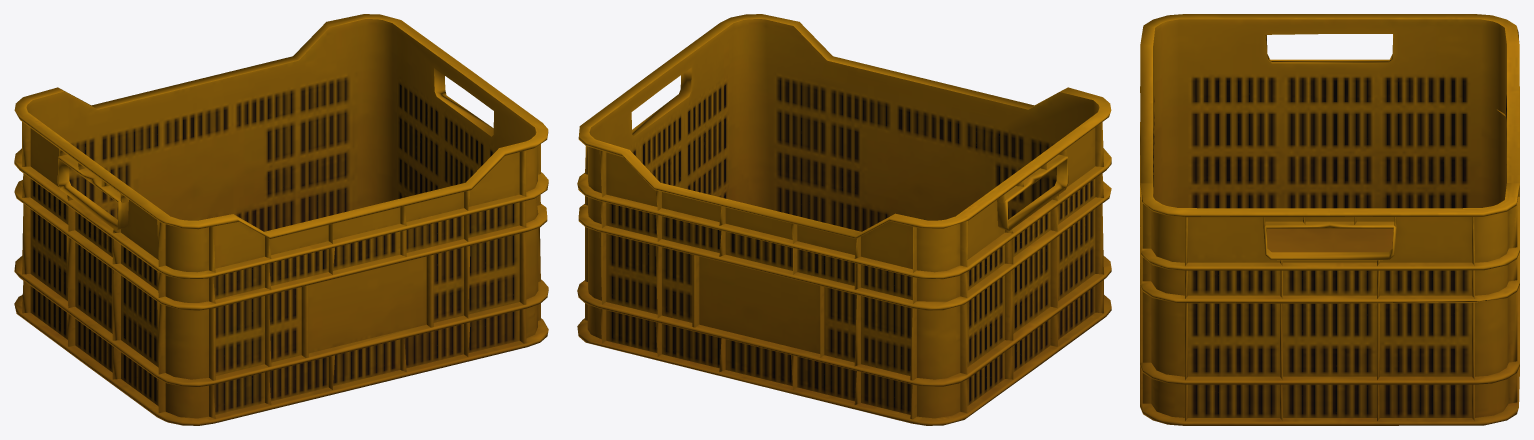
File: plastic_crate_02.glb
The picture shows the model from 3 angles, left to right: view 1: azimuth 30°, elevation 25°; view 2: azimuth 150°, elevation 25°; view 3: azimuth 270°, elevation 25°; orthographic projection. The views are drawn at different scales.
Visible parts, largest first — view 1: plastic_crate_02; view 2: plastic_crate_02; view 3: plastic_crate_02.
Boxes of the visible parts, x1,y1,x2,y2 form: plastic_crate_02: [14, 14, 548, 425]; plastic_crate_02: [577, 14, 1111, 425]; plastic_crate_02: [1140, 14, 1519, 425].
Bounding box in the file's own units: 0.5055 × 0.2541 × 0.4055.
Materials: 1 (1 with a texture image).
